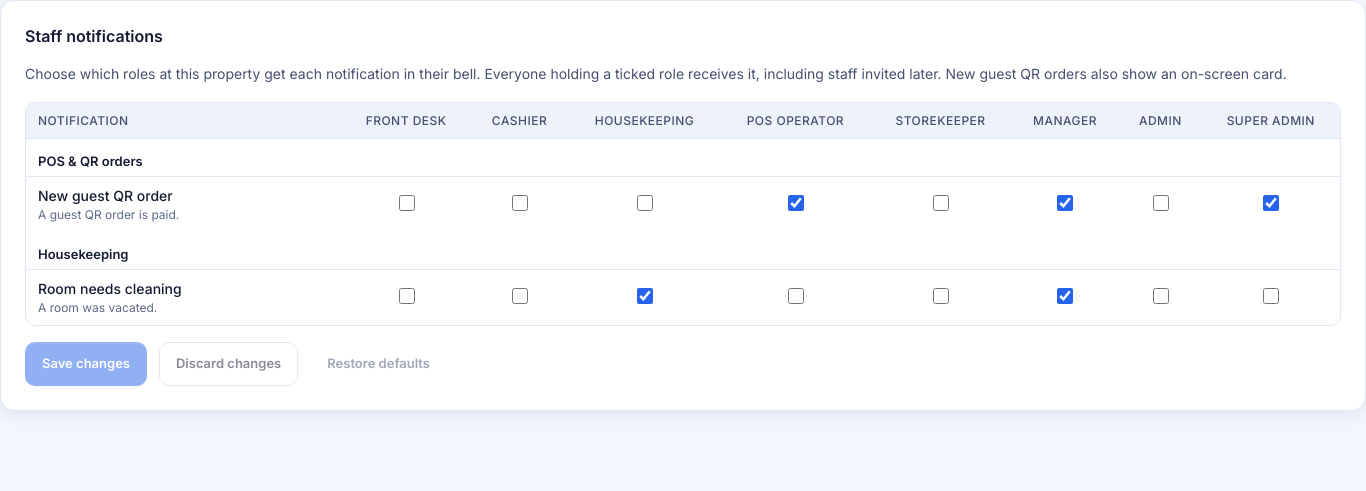
<NotificationsTab> › shows the real error when saving is refused
Click the checkbox named "Room needs cleaning: Cashier" at (520, 296), box [512,288,528,304]
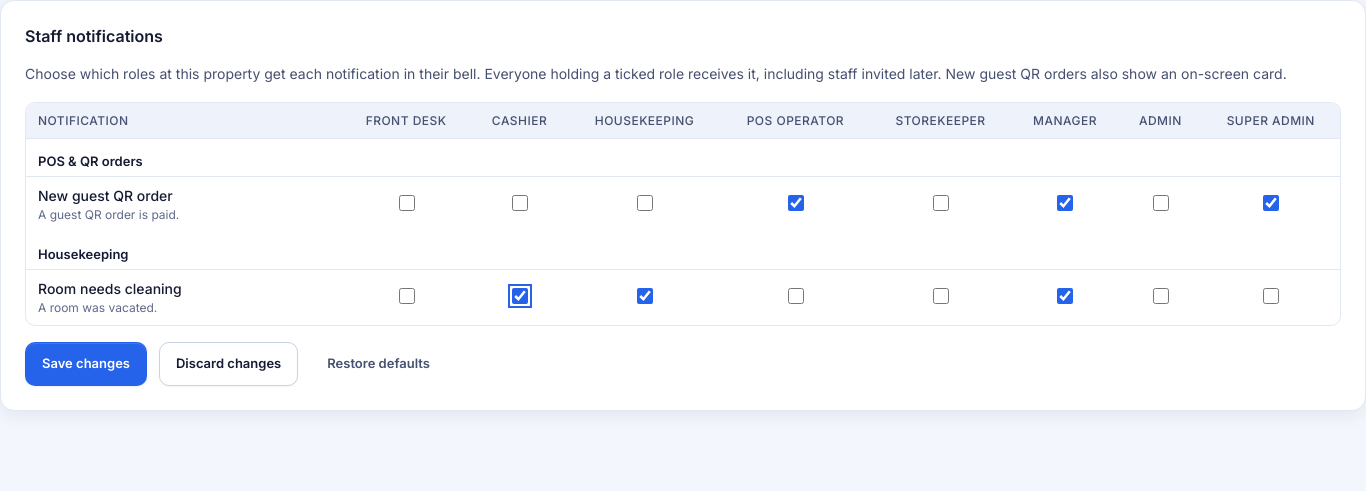
Click the button "Save changes" at (86, 364), box [25,342,147,386]
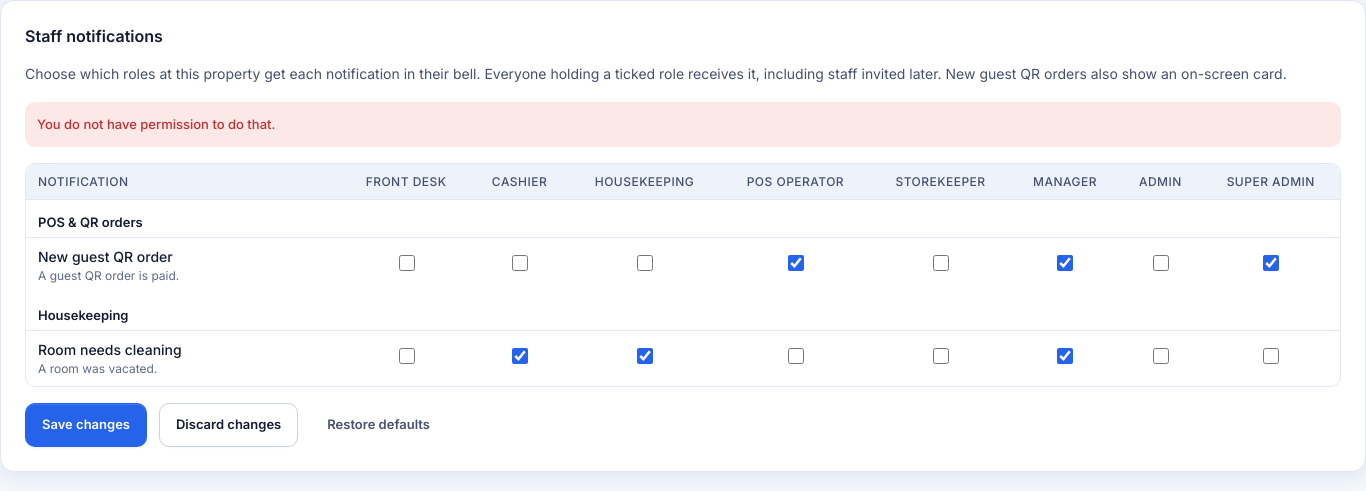
Result: the message reads "You do not have permission to do that." at [37,116,275,132]
